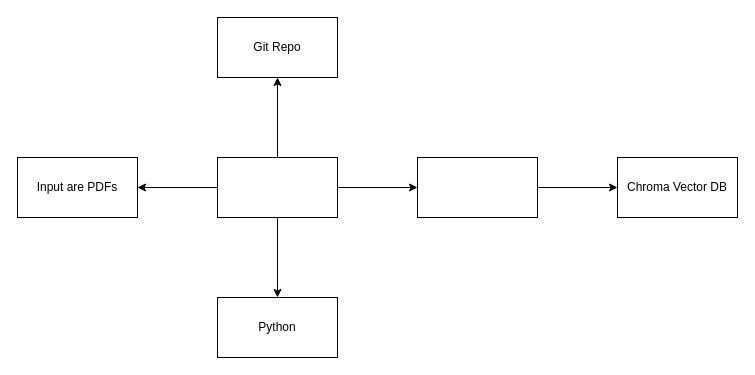
This 755x375 diagram has some shape labels left out. The centre of each missing label's shape, as x and y in pixels:
Architecture: the point at 277,187
Save Embeddings: the point at 477,187
